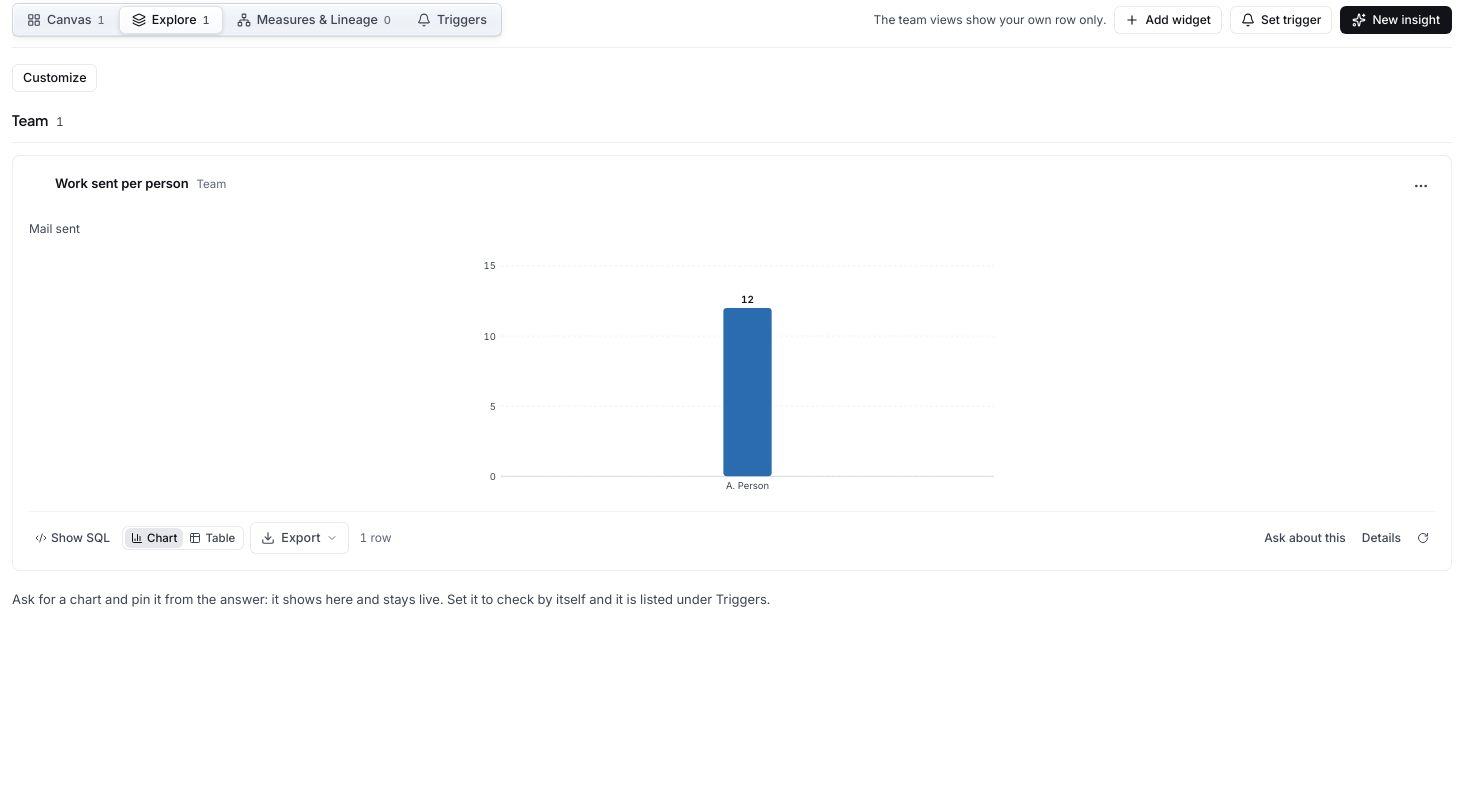
Scenario: a tile shows its work › lists the views and filters its statement reads; a filter taken out reads the tile again as the reader, and Reset reads it as it is
Expected: the picture named "Work sent per person" is shown, [29,247,1435,497]
Click the button "Details".
click(1381, 538)  # box [1356,526,1407,550]
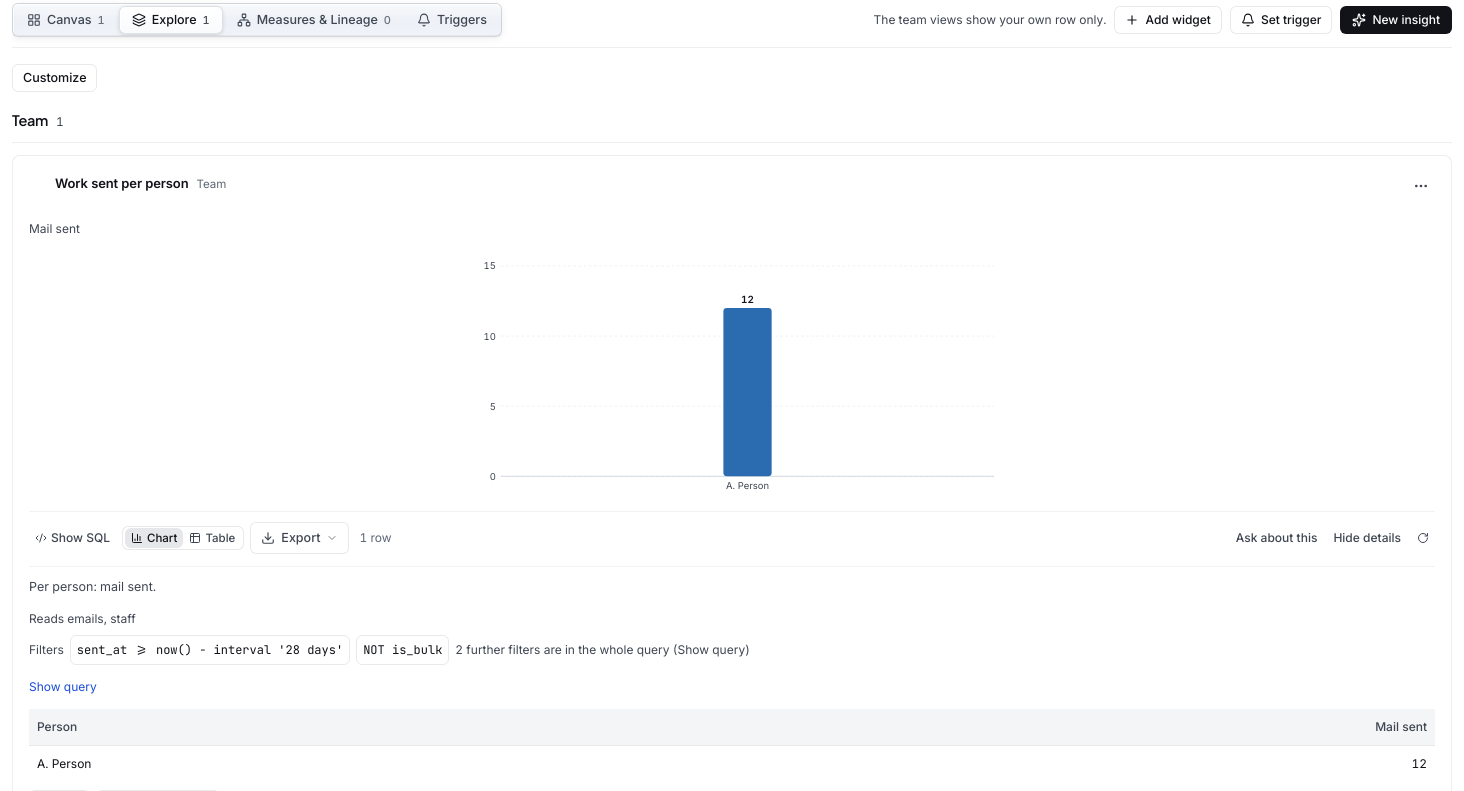
Expected: the text "SELECT person, mail_sent FROM x" is not shown
Expected: the element with test id "insight-work-team_output" shows "Reads emails, staff", [29,611,750,665]
Expected: the element with test id "insight-work-team_output" shows "2 further filters are in the whole query (Show query)", [29,611,750,665]
Click the button "Show query".
click(63, 687)  # box [29,675,97,699]
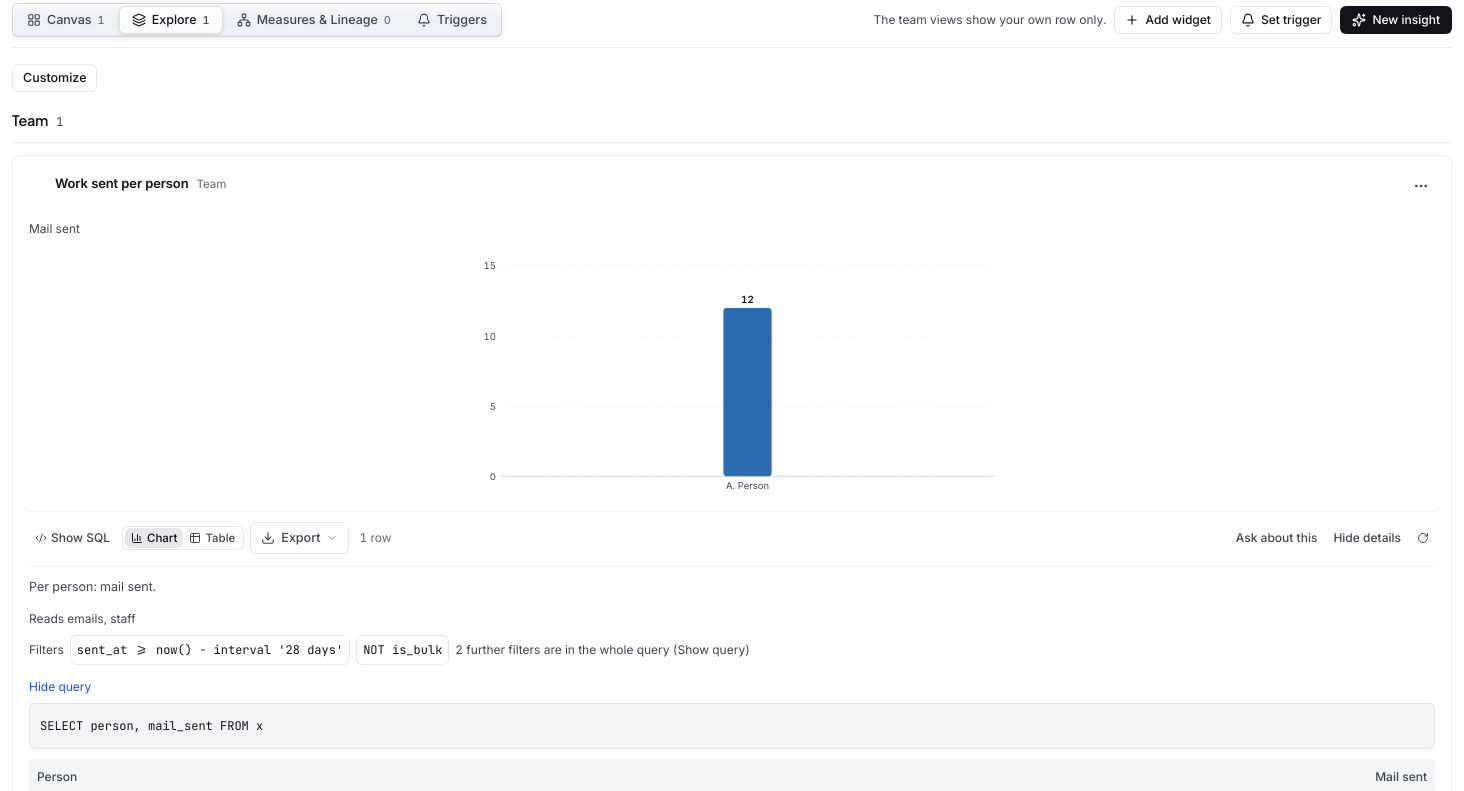
Expected: the text "SELECT person, mail_sent FROM x" is shown, [29,703,1435,749]
Click the button "NOT is_bulk".
click(403, 650)  # box [356,635,449,665]
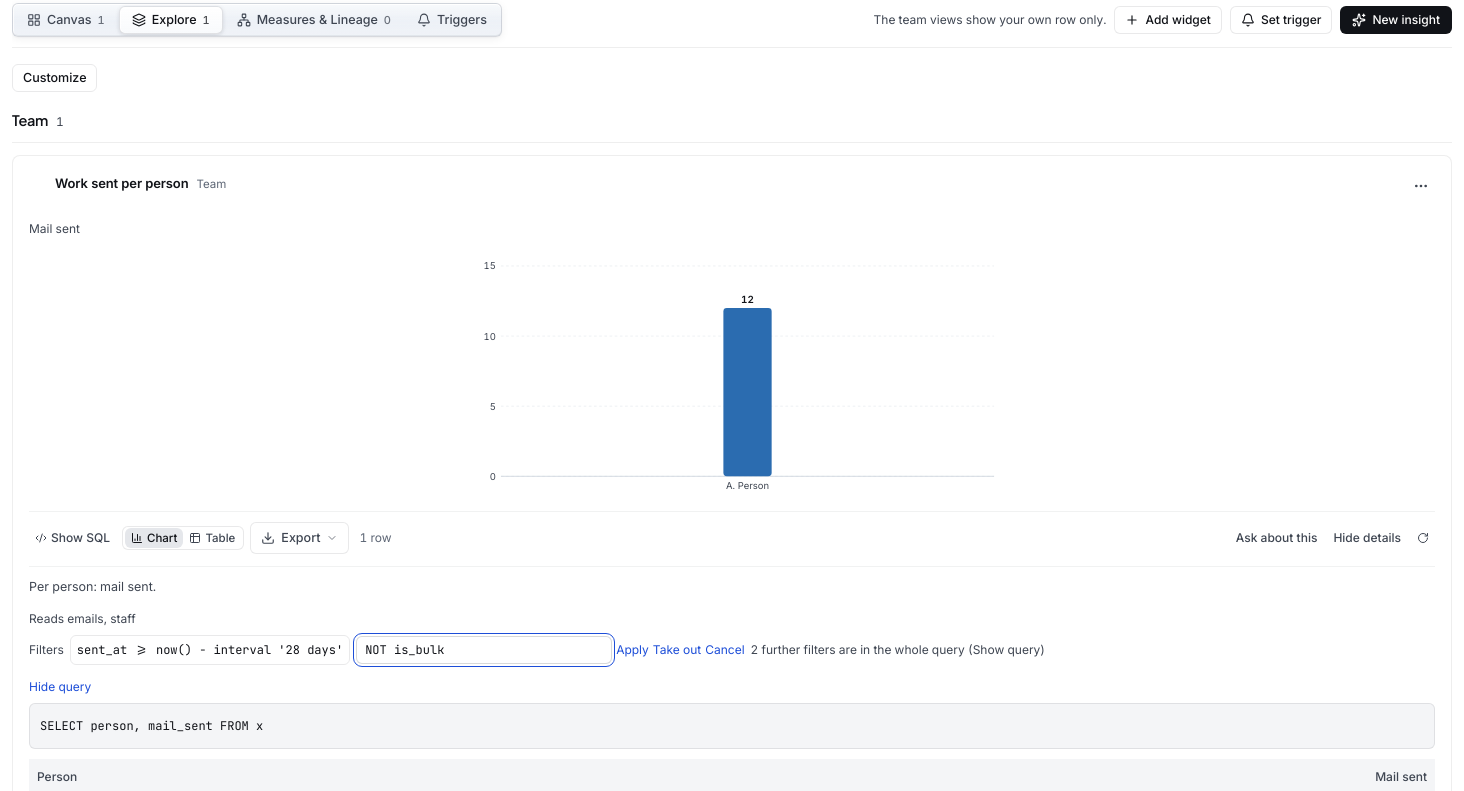
Click the button "Take out".
click(677, 650)  # box [653,638,701,662]
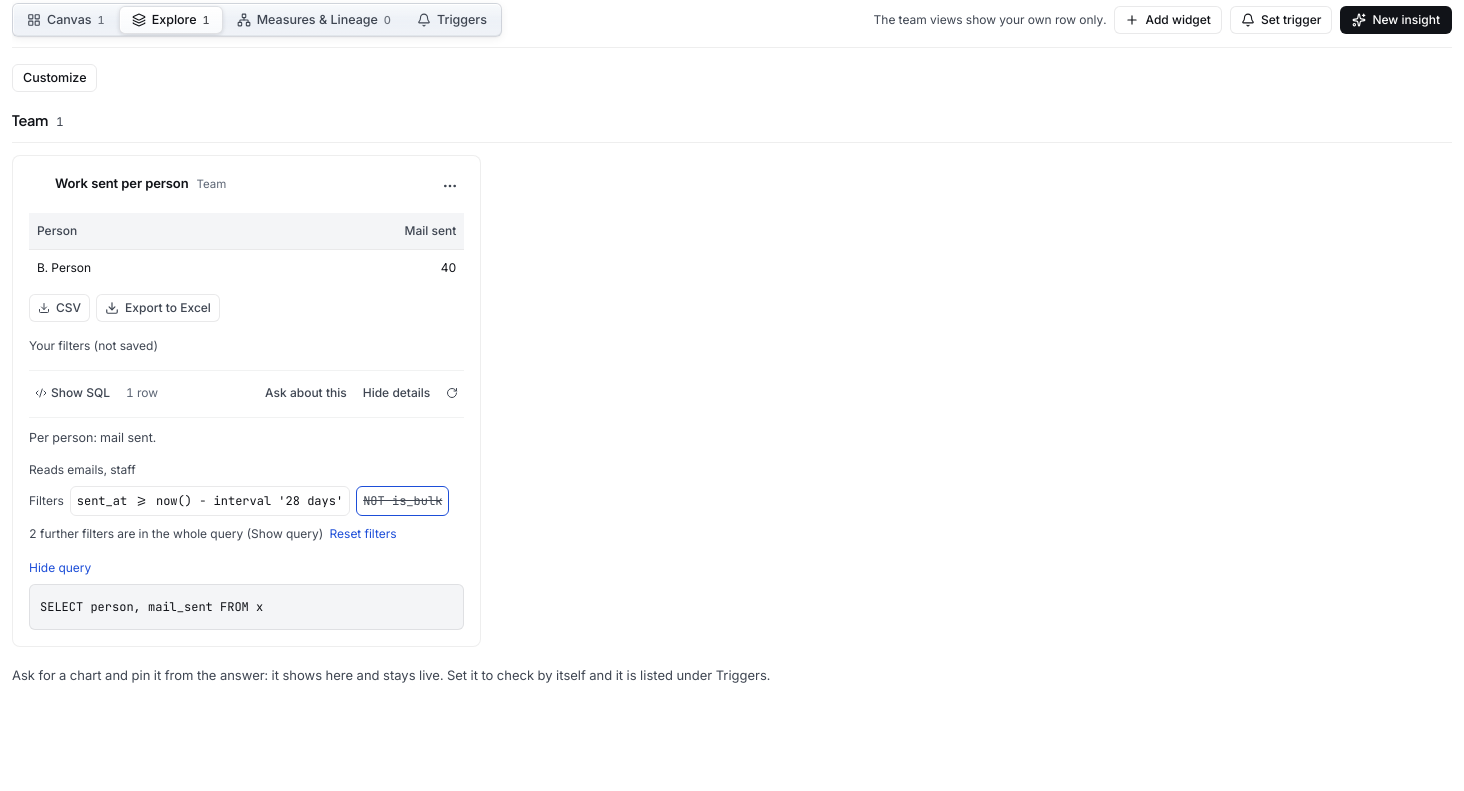
Expected: the text "Your filters (not saved)" is shown, [29,334,158,358]
Expected: the link "B. Person" is shown, [37,260,91,275]
Expected: the button "NOT is_bulk" is shown, [356,486,449,516]
Click the button "Reset filters".
click(363, 534)  # box [330,522,397,546]
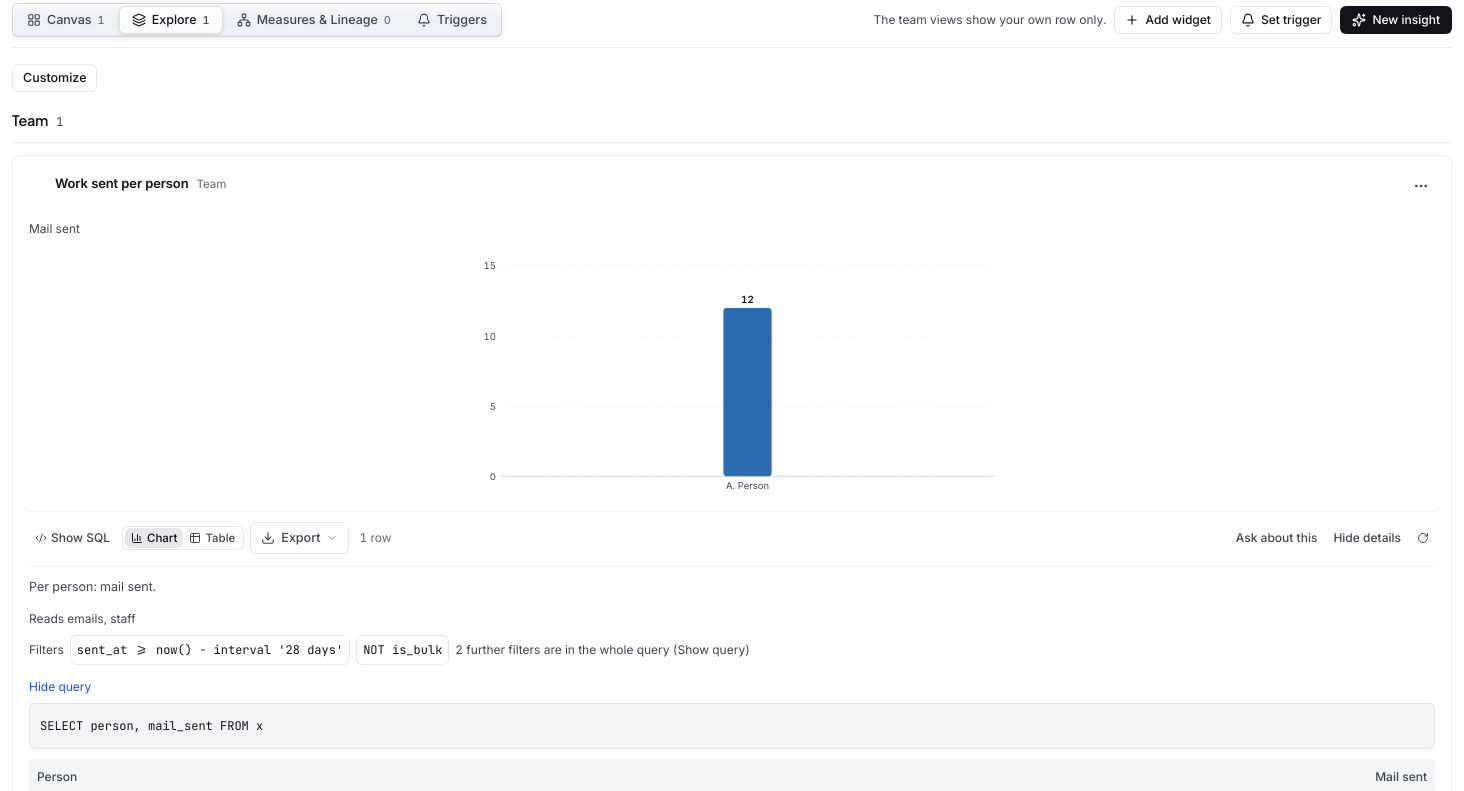
Expected: the text with test id "filtered-team_output" is gone
